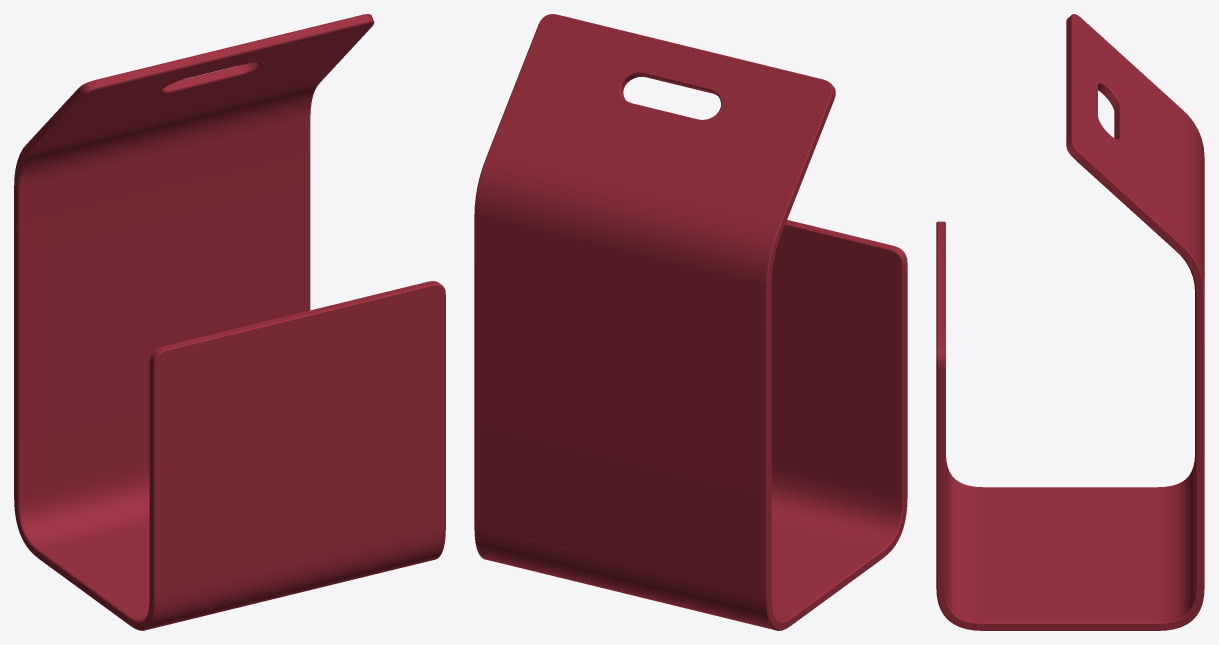
The model's file is Artek_Kanto_Rack_mat(3).fbx.
3 renders of one model, left to right at view 1: azimuth 30°, elevation 25°; view 2: azimuth 150°, elevation 25°; view 3: azimuth 270°, elevation 25°, orthographic. The views are drawn at different scales.
Visible parts, largest first — view 1: Artek_Kanto_Rack_mat3; view 2: Artek_Kanto_Rack_mat3; view 3: Artek_Kanto_Rack_mat3.
Part boxes in pixels (box(x1,y1,x2,y2)): Artek_Kanto_Rack_mat3: box(14, 14, 445, 630); Artek_Kanto_Rack_mat3: box(474, 14, 907, 630); Artek_Kanto_Rack_mat3: box(936, 14, 1204, 630).
Bounding box in the file's own units: 34 × 28.3 × 56.5.
